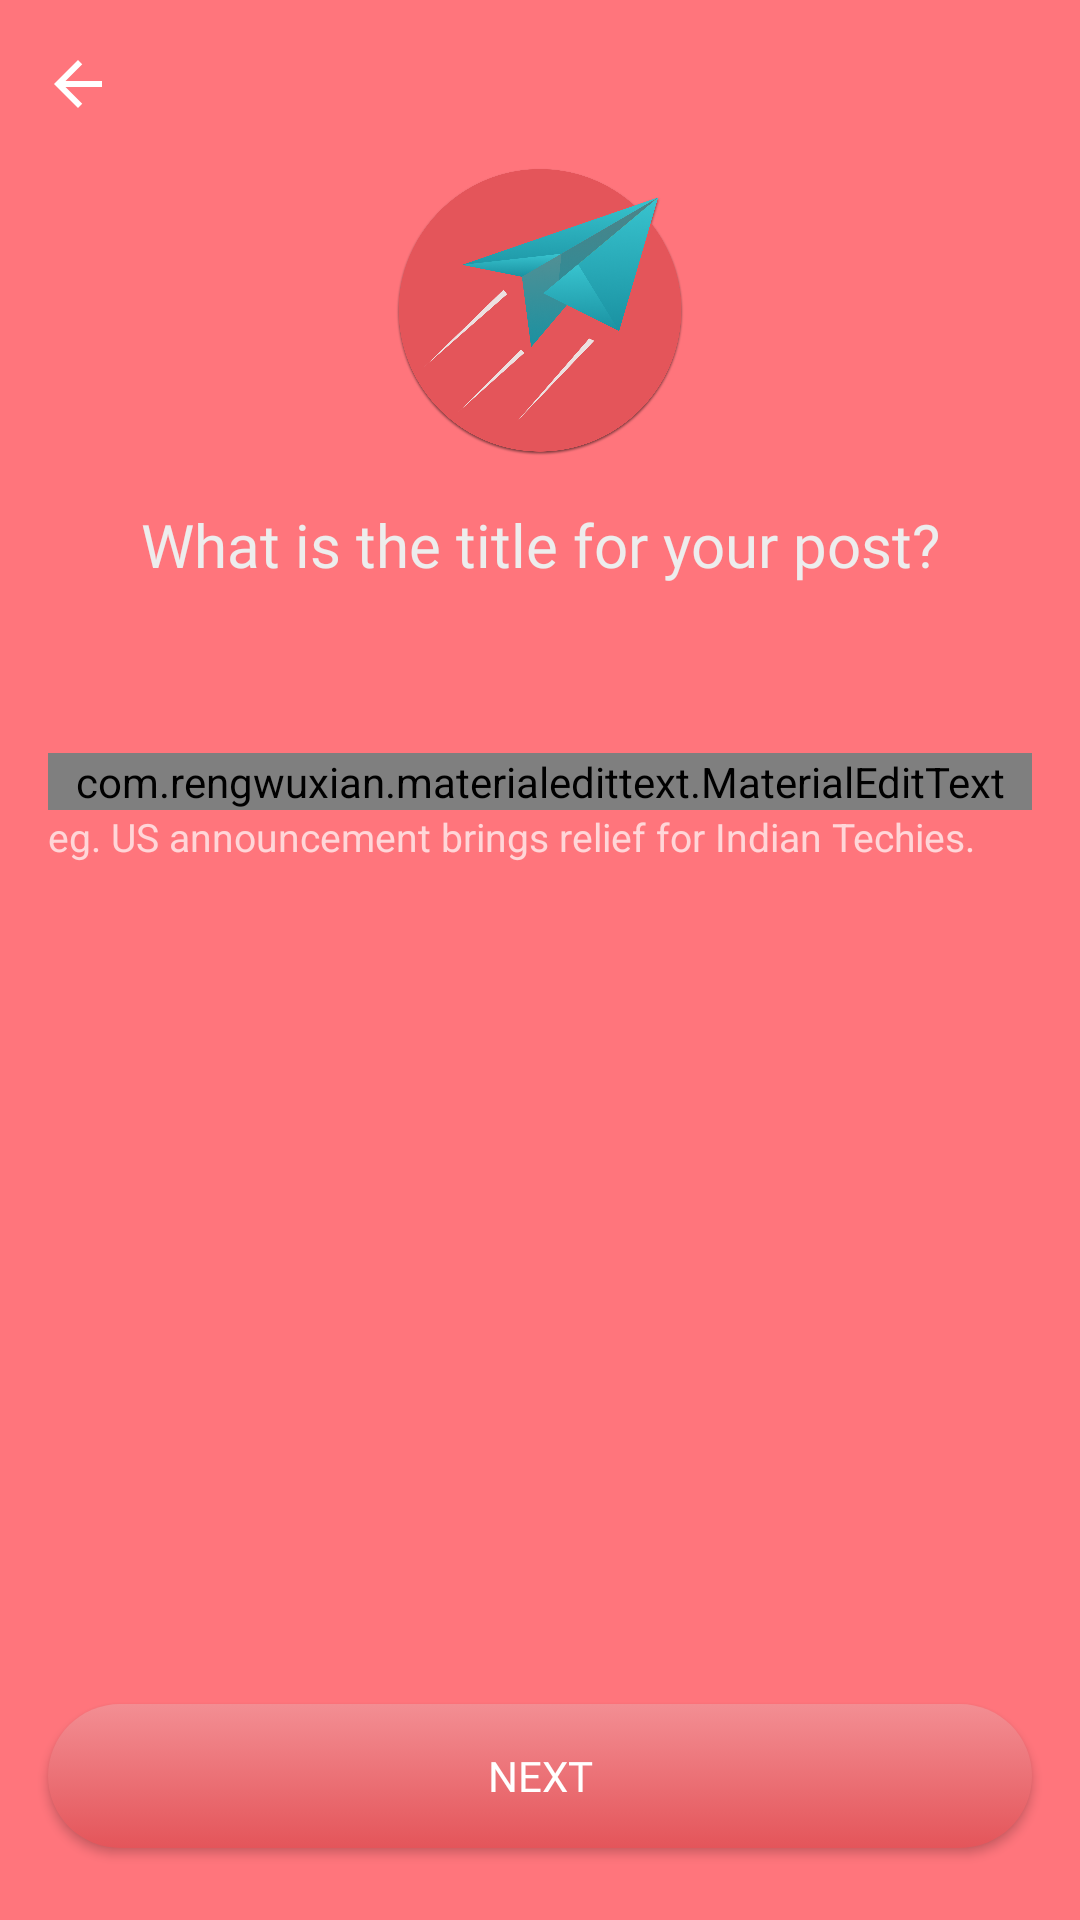

Screen size 1080×1920. Icon name, then its box in pixels as bbox=[x1, y1, x2, y2]:
arrow back: bbox=[54, 60, 102, 108]
send: bbox=[398, 169, 682, 454]
